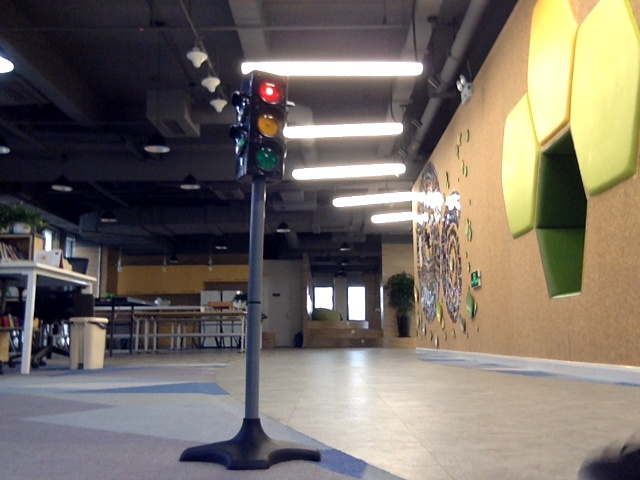red: (248, 72, 282, 171)
